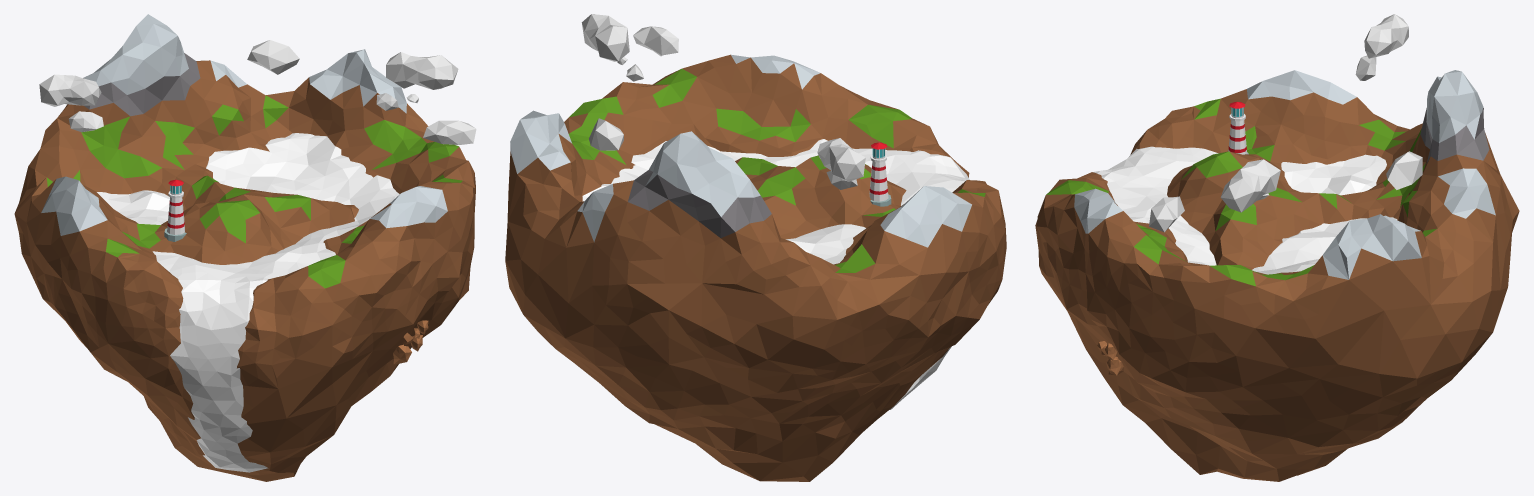
File: island_growth.glb
3 views of the same model, side by side, from view 1: azimuth 30°, elevation 25°; view 2: azimuth 150°, elevation 25°; view 3: azimuth 270°, elevation 25° (orthographic). The views are drawn at different scales.
Visible parts, largest first — view 1: Icosphere, Plane, Icosphere.003, Icosphere.001, Icosphere.004, Icosphere.005, Cylinder.001, Icosphere.002; view 2: Icosphere, Plane, Icosphere.003, Icosphere.001, Cylinder.001, Icosphere.005, Icosphere.004; view 3: Icosphere, Plane, Icosphere.003, Icosphere.001, Icosphere.004, Icosphere.005, Cylinder.001.
Part boxes in pixels (x1,y1,x2,y2): Icosphere: (14,14,475,481); Plane: (97,133,399,472); Icosphere.003: (386,52,458,89); Icosphere.001: (39,74,101,106); Icosphere.004: (247,40,299,74); Icosphere.005: (423,120,476,144); Cylinder.001: (164,179,186,241); Icosphere.002: (68,111,103,132); Icosphere: (505,54,1006,481); Plane: (582,139,969,409); Icosphere.003: (581,14,629,61); Icosphere.001: (817,138,865,181); Cylinder.001: (869,142,891,206); Icosphere.005: (633,26,678,56); Icosphere.004: (589,118,623,150); Icosphere: (1035,70,1519,481); Plane: (1092,146,1397,274); Icosphere.003: (1220,159,1280,212); Icosphere.001: (1364,14,1408,58); Icosphere.004: (1386,151,1422,189); Icosphere.005: (1149,196,1184,232); Cylinder.001: (1228,101,1248,154).
Bounding box in the file's own units: 18.83 × 17.46 × 19.13.
